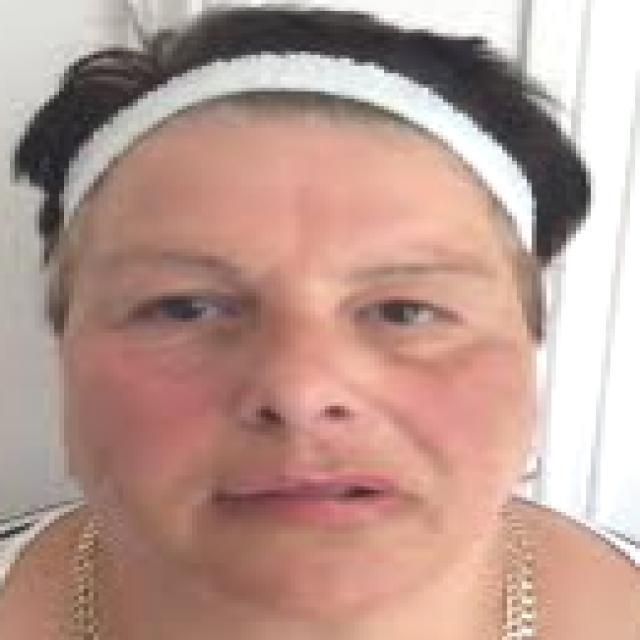stroke_face: (91, 51, 492, 616)
